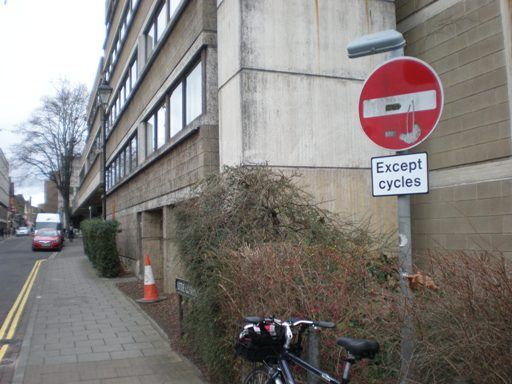No_entry: (356, 56, 445, 152)
